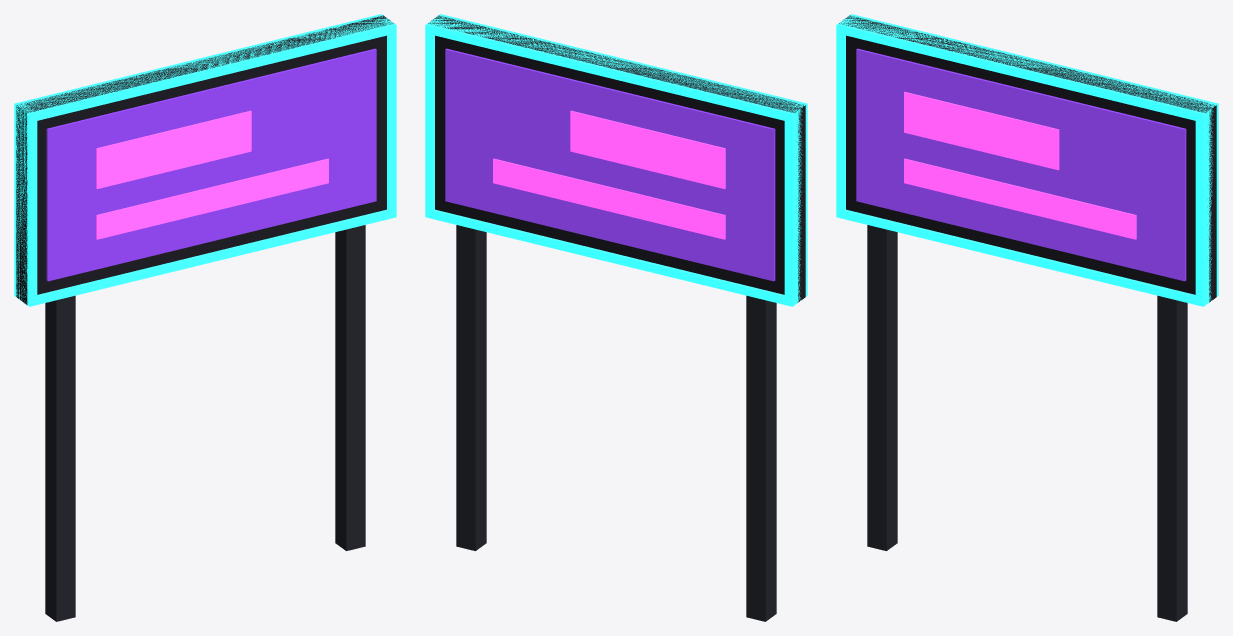
File: cyb-painel-neon.gltf
The picture shows the model from 3 angles, left to right: view 1: azimuth 30°, elevation 25°; view 2: azimuth 150°, elevation 25°; view 3: azimuth 330°, elevation 25°; orthographic projection.
Parts seen in each view (by area): view 1: cyb-painel-neon; view 2: cyb-painel-neon; view 3: cyb-painel-neon.
Part boxes in pixels (left/top/right/bottom): cyb-painel-neon: left=14, top=14, right=396, bottom=621; cyb-painel-neon: left=425, top=14, right=807, bottom=621; cyb-painel-neon: left=836, top=14, right=1218, bottom=621.
Size of the model in its own units: 1.9 by 2.55 by 0.136.
